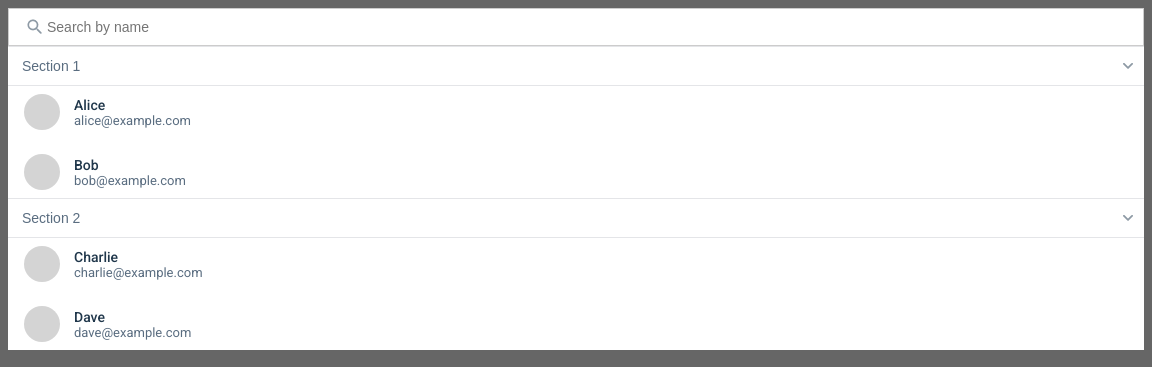
Test: SearchableList Component › filters items based on search text
Step 1. Type "Alice" into the search field with placeholder "Search by name" → (586, 27), box [45,18,1127,36]
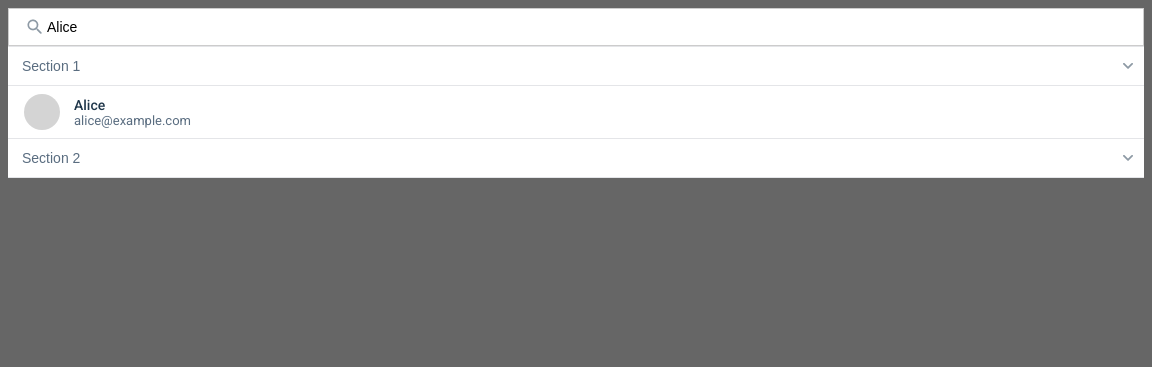
expect the text "Alice" is shown: met, box [74,96,105,112]
expect the text "Bob" is gone: met
